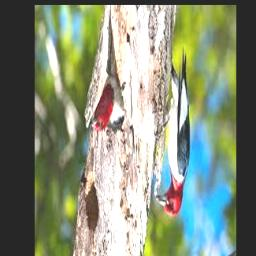Woodpecker: (155, 48, 191, 215), (90, 43, 125, 135)
